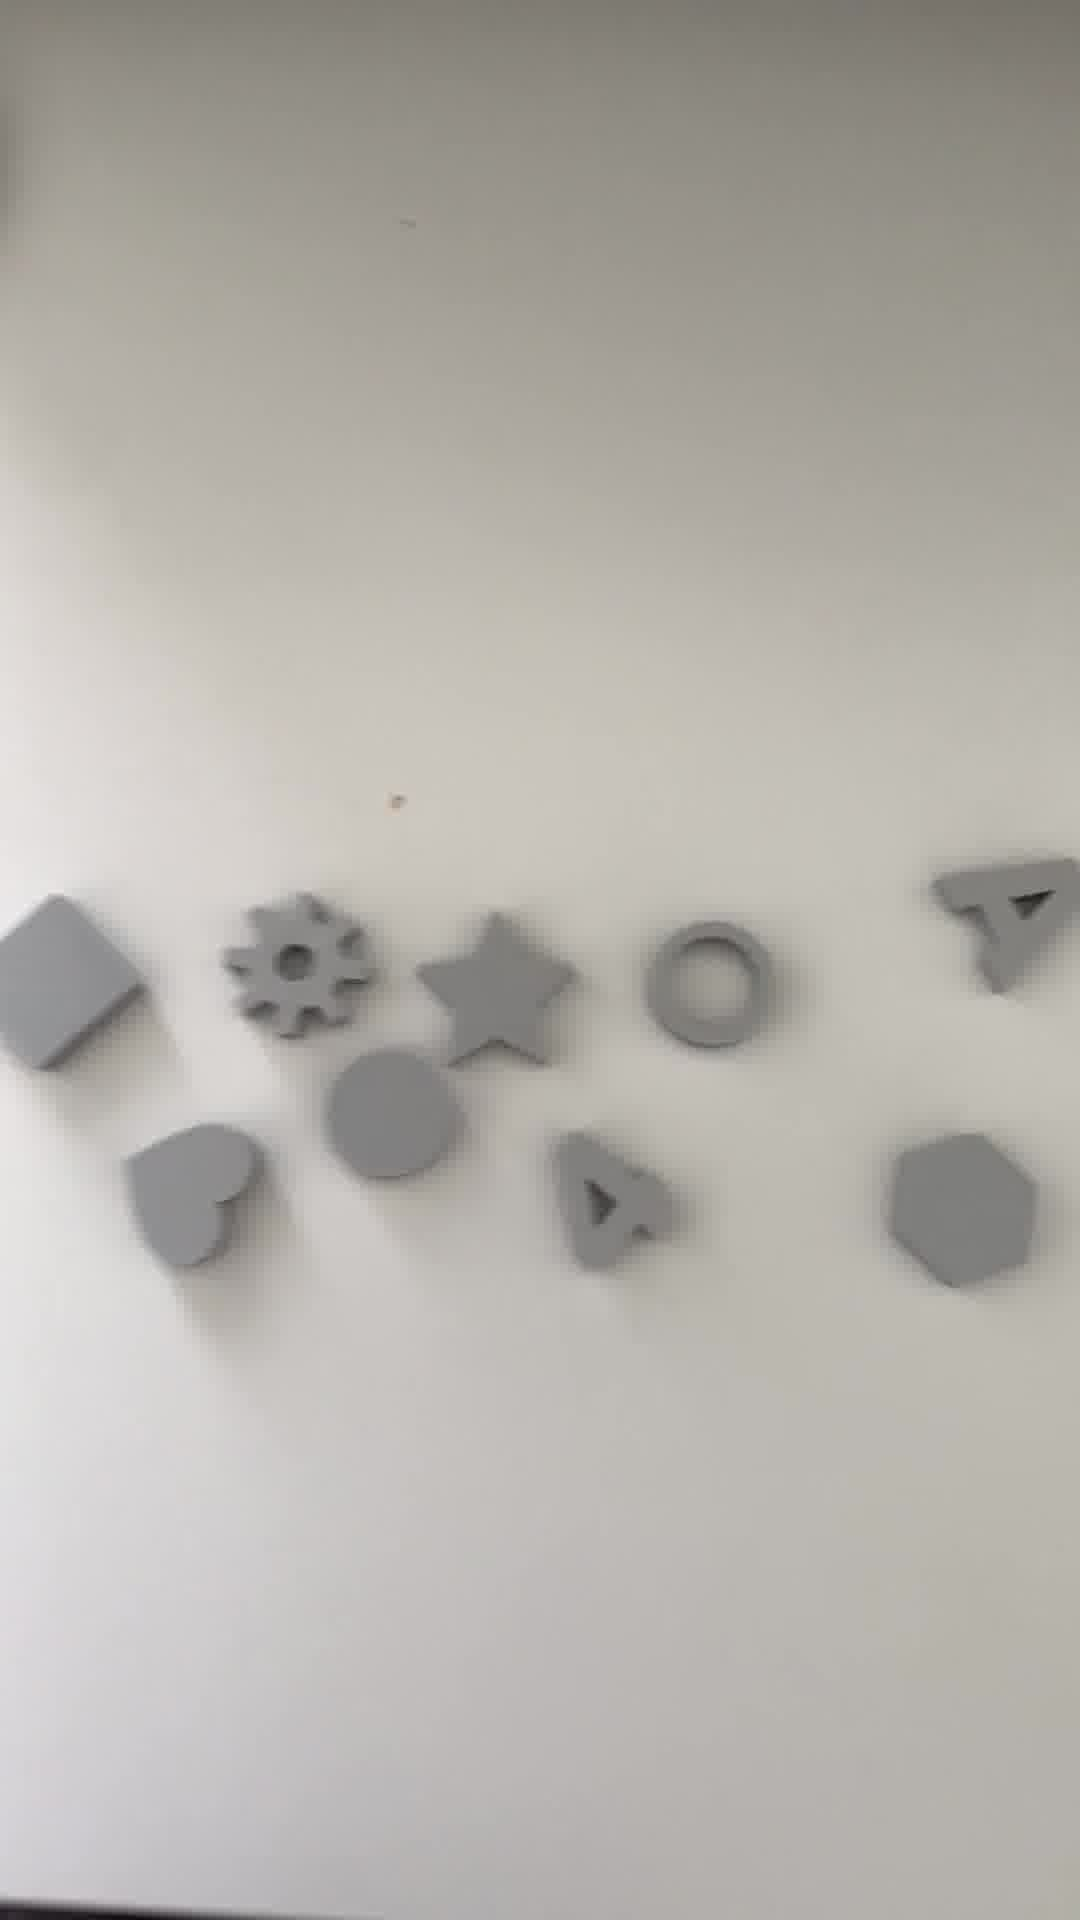Gray A-letter: (935, 855, 1080, 997)
Gray circle: (331, 1046, 456, 1189)
Gray four: (541, 1127, 686, 1276)
Gray gear: (211, 901, 375, 1055)
Gray heart: (111, 1116, 268, 1273)
Gray hexagon: (872, 1112, 1044, 1305)
Gray ring: (636, 916, 775, 1058)
Gray square: (1, 893, 152, 1077)
Gray star: (409, 922, 572, 1073)
